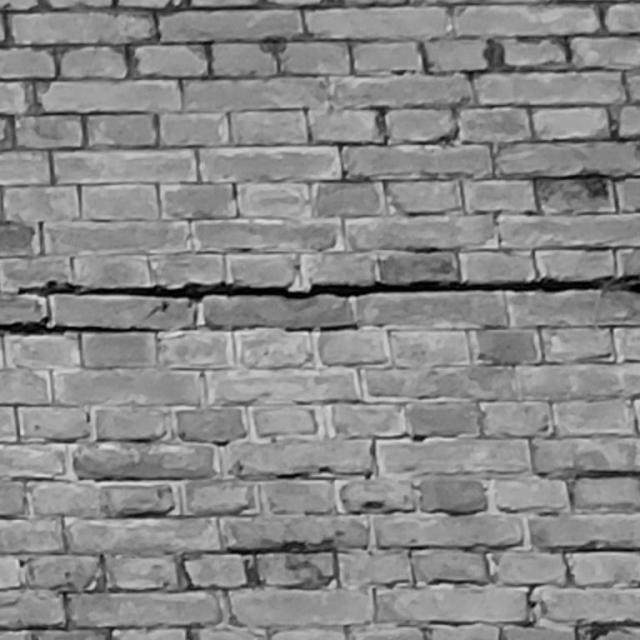crack: (17, 275, 640, 300), (1, 316, 167, 338)
